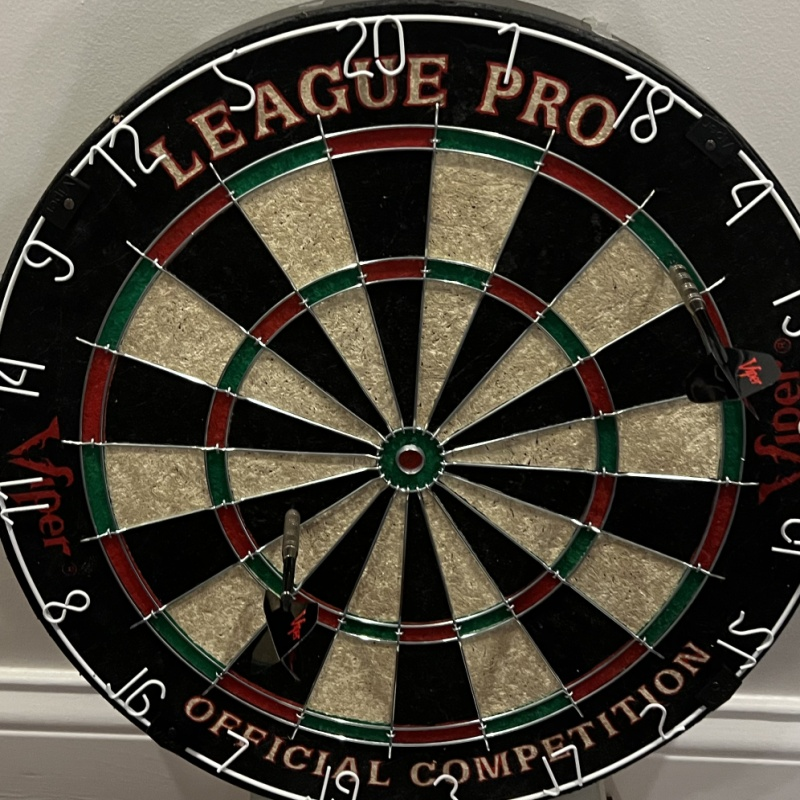dart: (662, 253, 687, 278), (282, 503, 304, 521)
eleven: (1, 477, 51, 522)
twenty: (340, 16, 406, 78)
